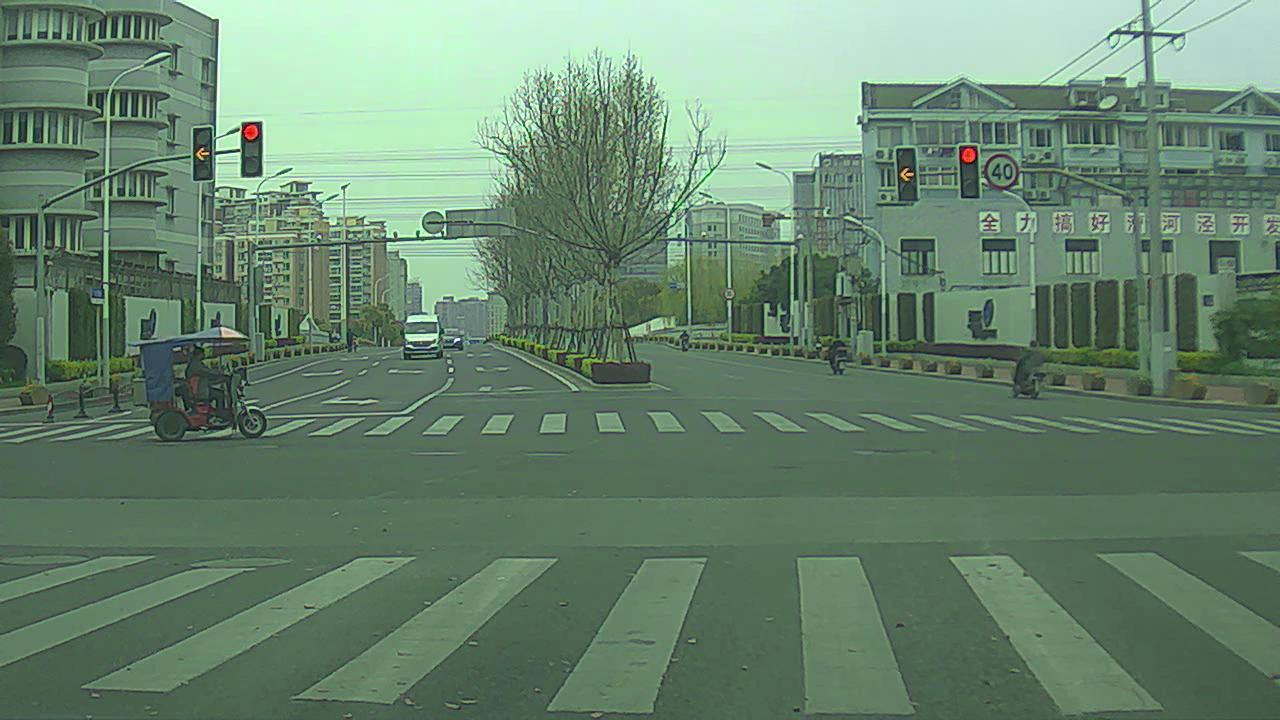traffic_light: (239, 118, 266, 180), (190, 126, 214, 184), (960, 143, 983, 202), (897, 147, 920, 202)
